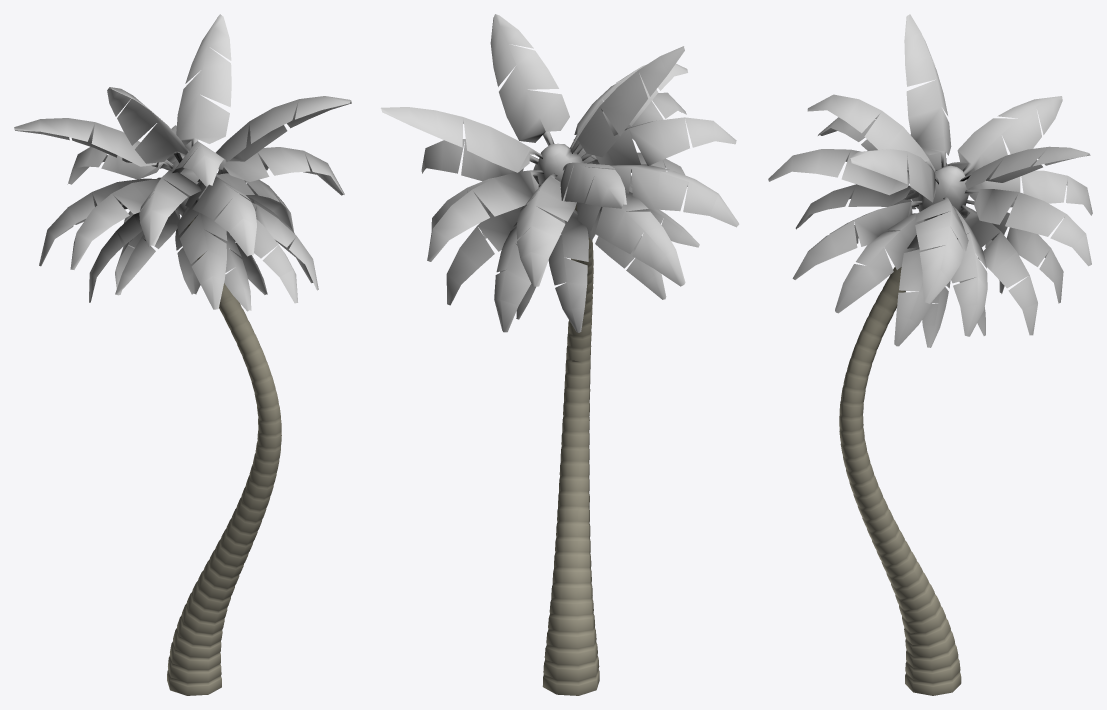
The model's file is ballpit_palmtree_a.fbx.
The picture shows the model from 3 angles, left to right: view 1: azimuth 30°, elevation 25°; view 2: azimuth 150°, elevation 25°; view 3: azimuth 270°, elevation 25°; orthographic projection. The views are drawn at different scales.
Visible parts, largest first — view 1: Trunk Mk 2.001; view 2: Trunk Mk 2.001; view 3: Trunk Mk 2.001.
Part boxes in pixels (bbox=[...]): Trunk Mk 2.001: bbox=[14, 14, 351, 695]; Trunk Mk 2.001: bbox=[381, 14, 739, 695]; Trunk Mk 2.001: bbox=[768, 14, 1092, 695].
Bounding box in the file's own units: 922 × 1912 × 902.
